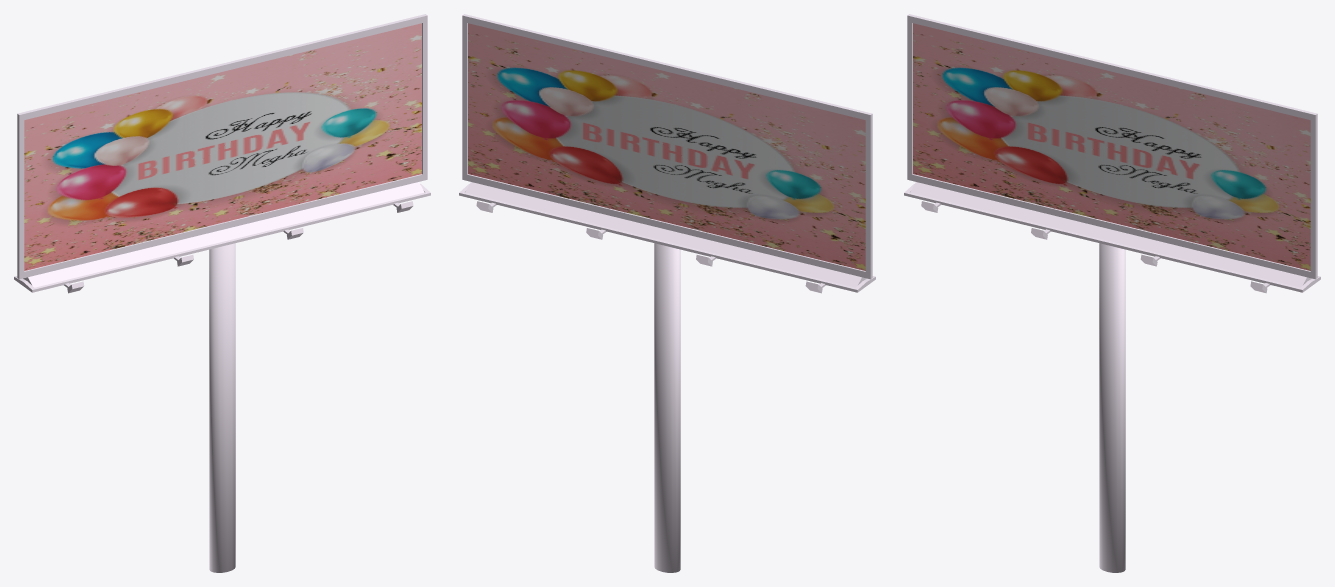
Rendered from bill.glb.
3 views of the same model, side by side, from view 1: azimuth 30°, elevation 25°; view 2: azimuth 150°, elevation 25°; view 3: azimuth 330°, elevation 25° (orthographic).
Parts seen in each view (by area): view 1: billboard-1.baked; view 2: billboard-1.baked; view 3: billboard-1.baked.
Boxes of the visible parts, x1,y1,x2,y2 form: billboard-1.baked: (14,14,430,572); billboard-1.baked: (459,14,875,572); billboard-1.baked: (904,14,1320,572).
Size of the model in its own units: 25.78 by 30.38 by 4.51.
Materials: 2 (1 with a texture image).
